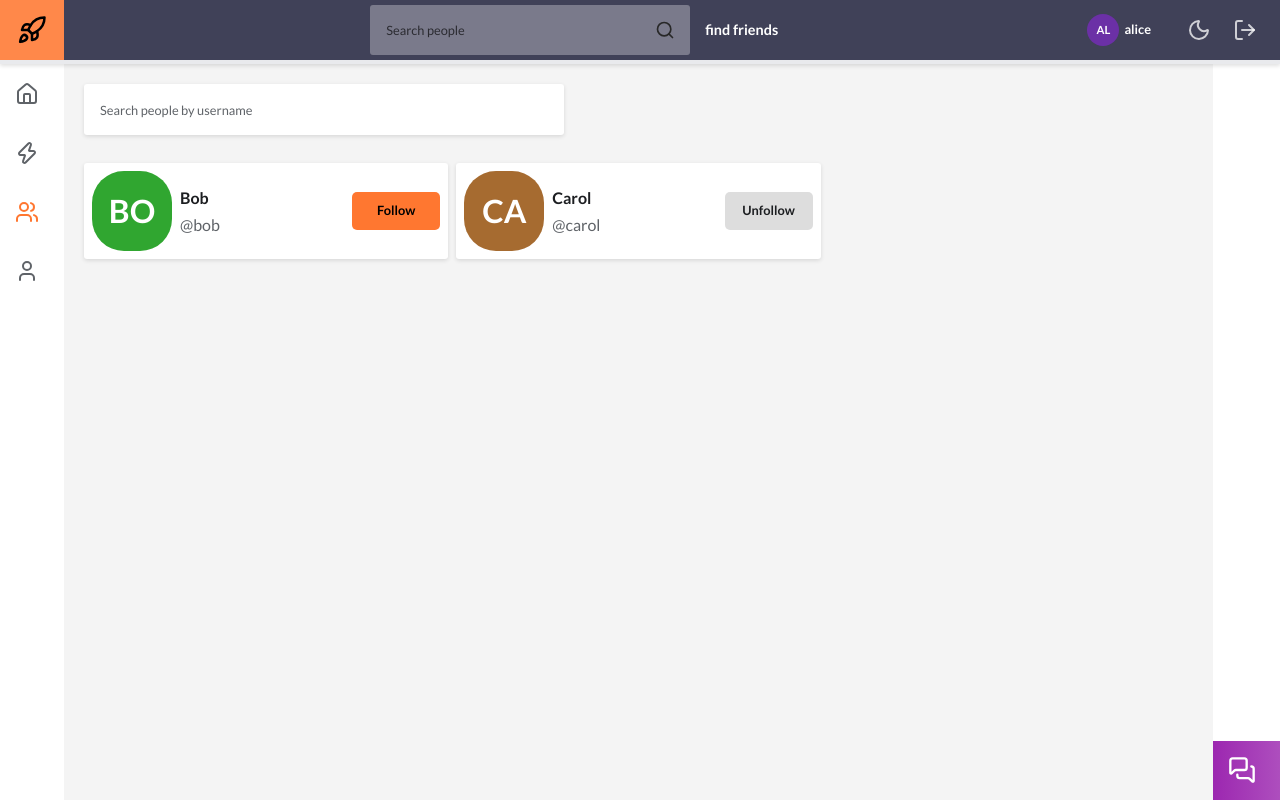
Test case: follow toggle › restores the button and reports the error when the server refuses
The image size is (1280, 800).
What coordinates should you click on to do the following:
click the button named "Follow bob"
I would click on:
 (396, 211)
Its box is [352, 192, 440, 230].
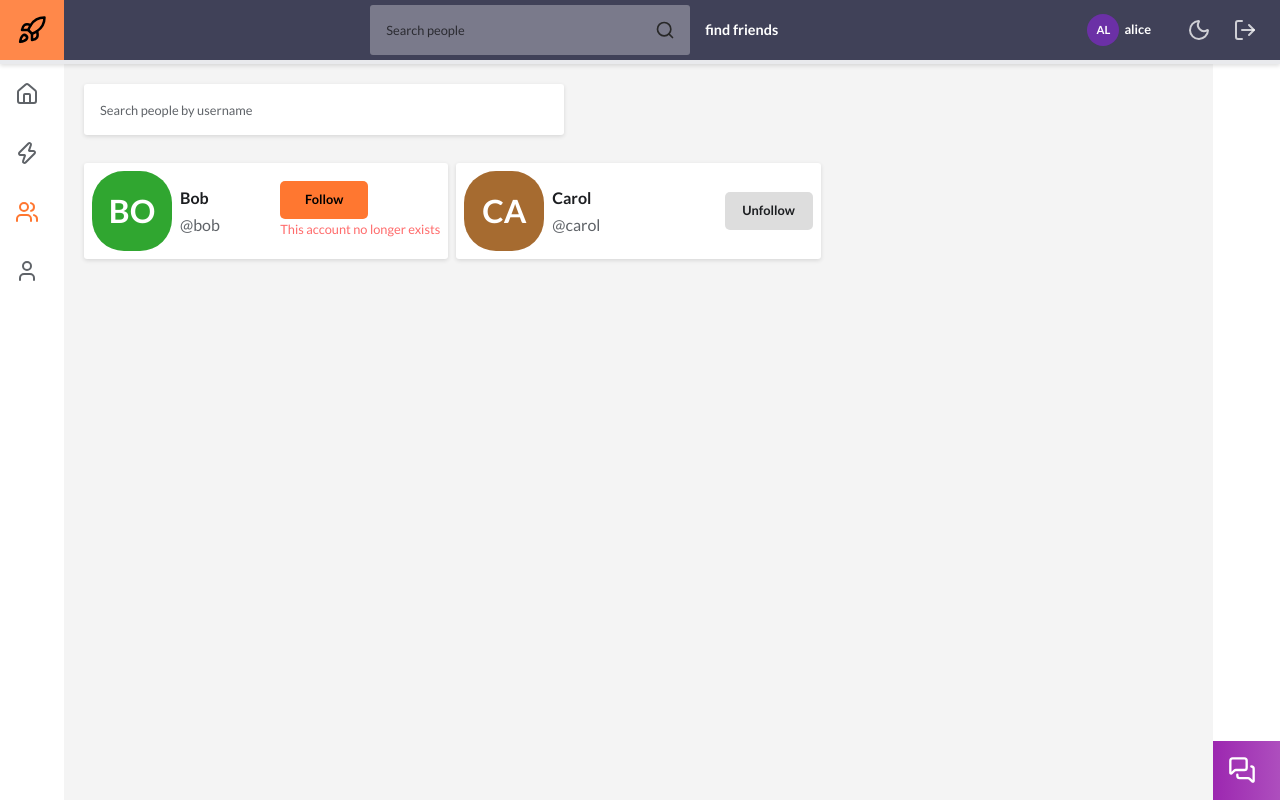
Expected: the button named "Unfollow bob" is shown, [280, 181, 368, 219]
Now the message reads "This account no longer exists", box [280, 221, 440, 237]
